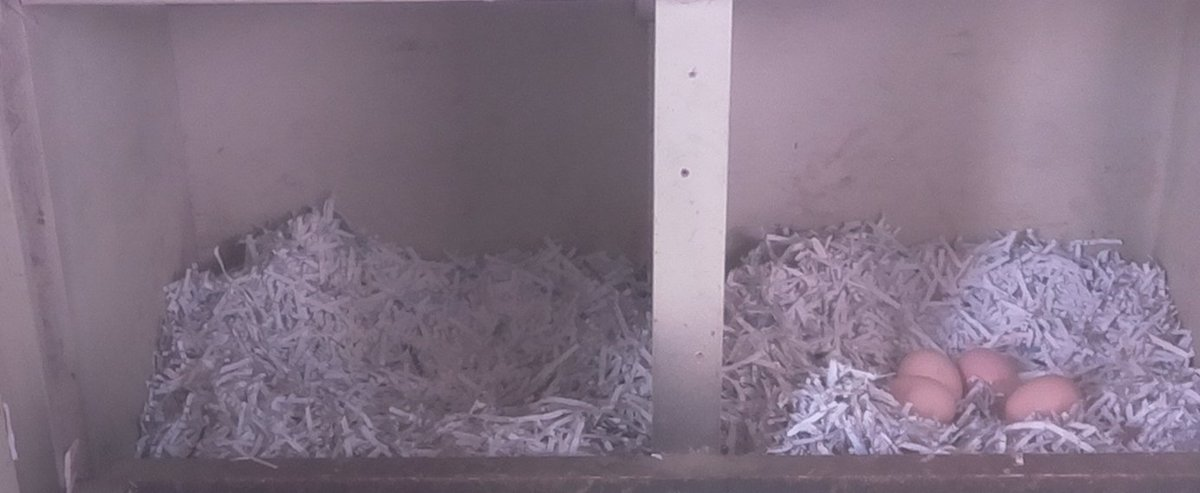egg: (1001, 371, 1093, 434), (955, 343, 1025, 410), (876, 371, 960, 426), (893, 348, 963, 399)
